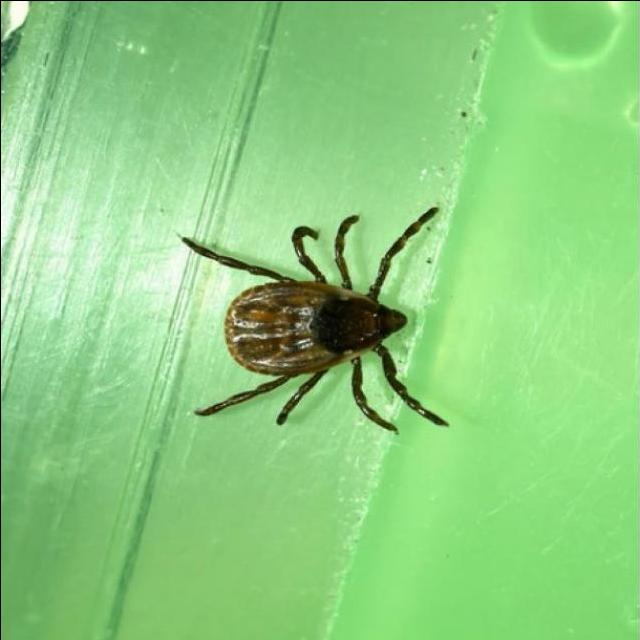Rhipicephalus Sanguineus-F: (180, 206, 446, 437)
